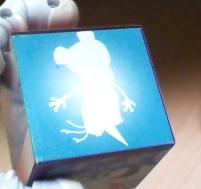Blue2: (6, 29, 172, 163)
